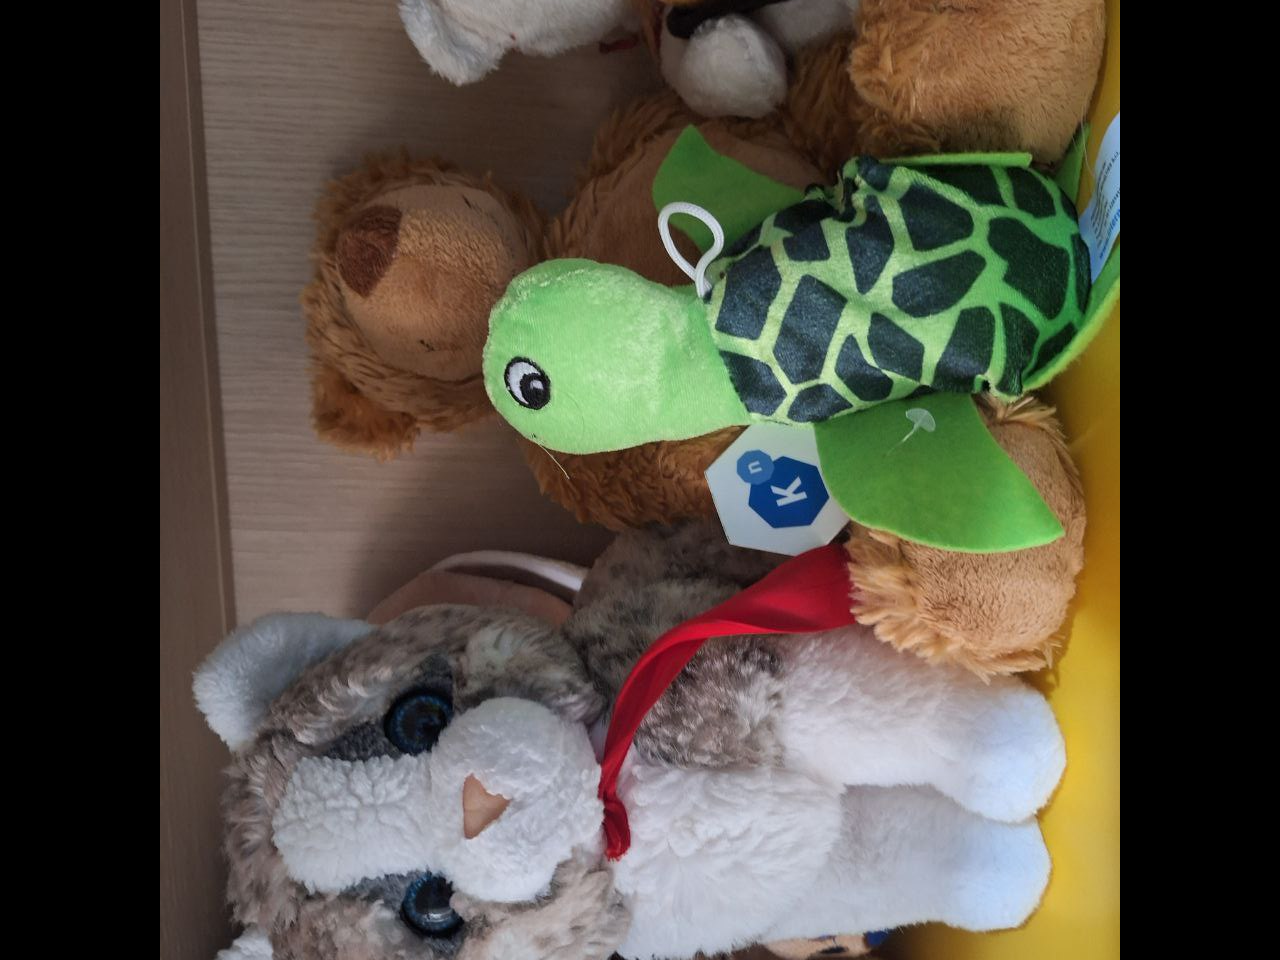knative: (736, 450, 831, 530)
